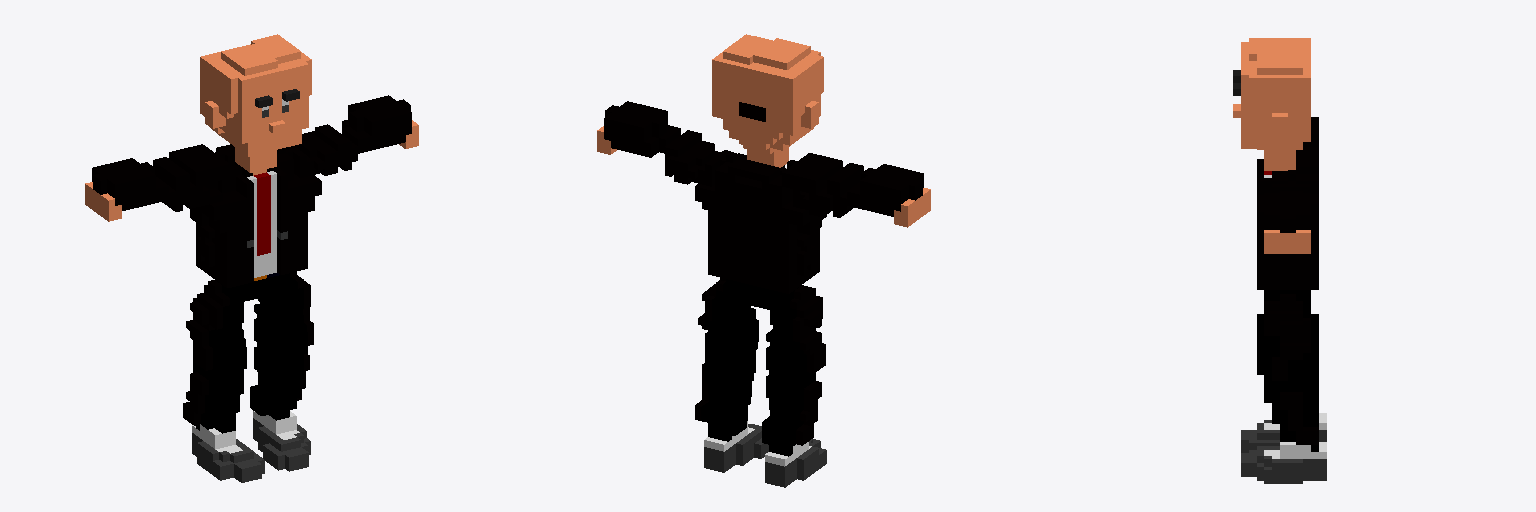
3 renders of one model, left to right at view 1: azimuth 30°, elevation 25°; view 2: azimuth 150°, elevation 25°; view 3: azimuth 270°, elevation 25°, orthographic.
Parts seen in each view (by area): view 1: object 1; view 2: object 1; view 3: object 1.
Boxes of the visible parts, box(x1,y1,x2,y2) form: object 1: box(85, 34, 418, 482); object 1: box(597, 34, 930, 487); object 1: box(1233, 38, 1326, 483).
Bounding box in the file's own units: 4.6 × 5.8 × 1.2.
1 materials, 1 textured.